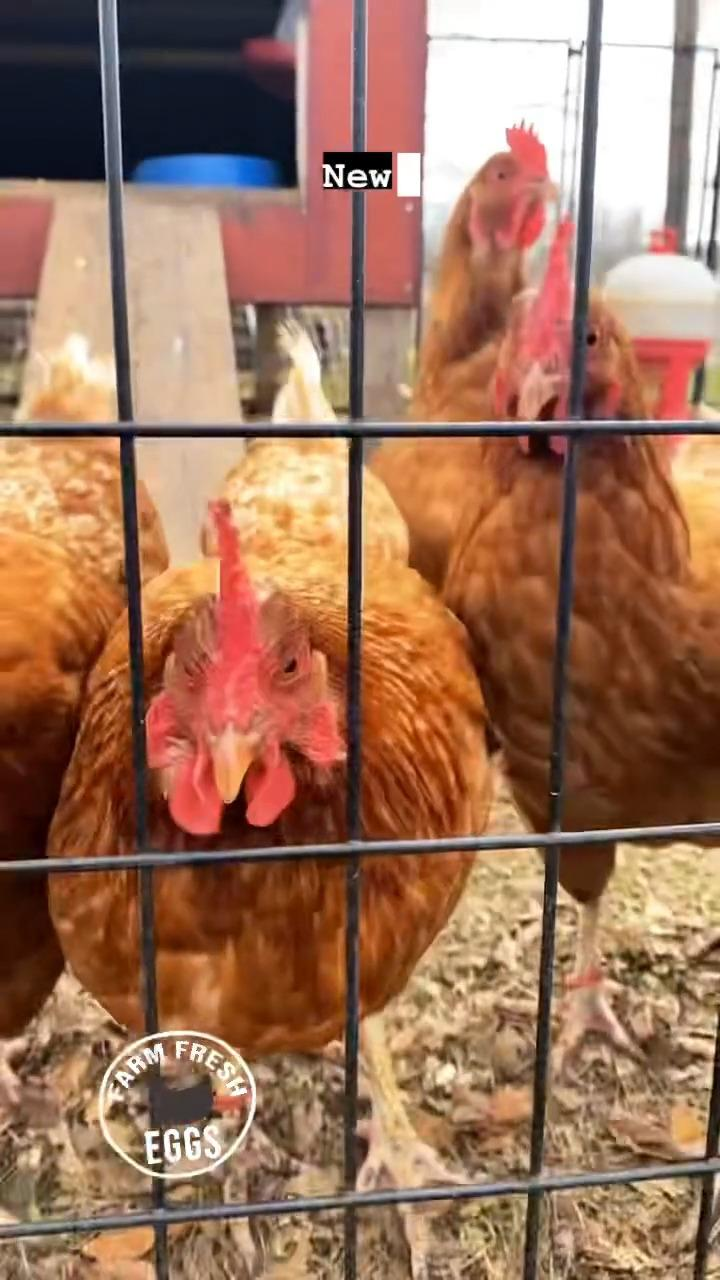rooster: (47, 328, 486, 1238), (443, 206, 719, 1077), (0, 334, 171, 1119), (373, 124, 560, 581)
